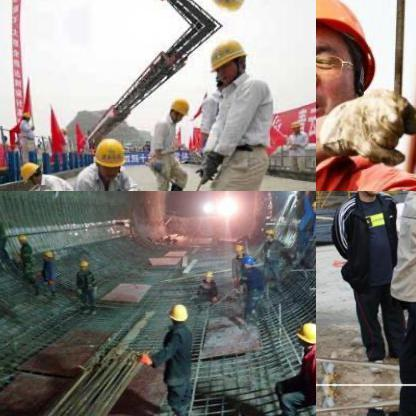Helmet: (316, 0, 389, 143), (209, 30, 250, 86), (92, 134, 126, 178), (208, 0, 251, 19), (166, 92, 188, 121), (18, 157, 40, 183), (296, 319, 315, 348), (168, 300, 188, 324), (287, 117, 305, 133), (202, 266, 214, 282), (16, 230, 28, 244), (240, 254, 252, 268), (262, 226, 272, 242), (234, 240, 244, 256), (76, 258, 88, 270), (40, 248, 51, 260), (21, 108, 31, 120), (309, 196, 315, 212)
